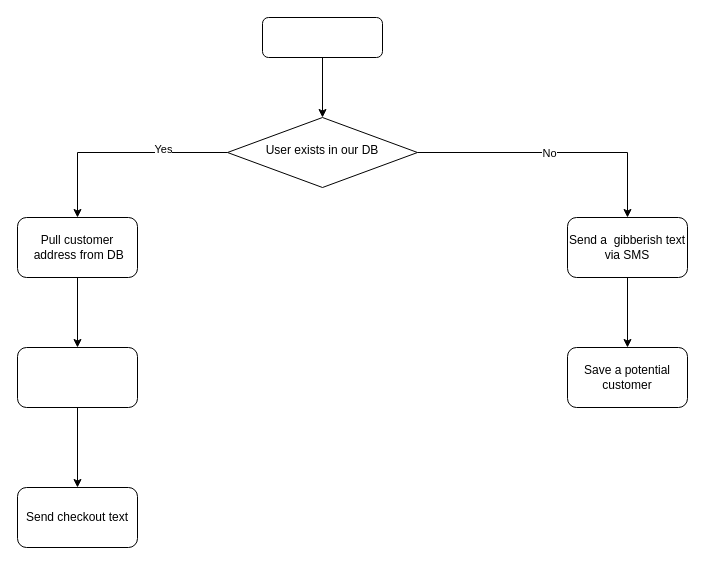
This 705x565 diagram has some shape labels left out. The centre of each missing label's shape, as x and y in pixels:
Create new Request Pickup: (x=77, y=377)
Incoming SMS: (x=322, y=37)
